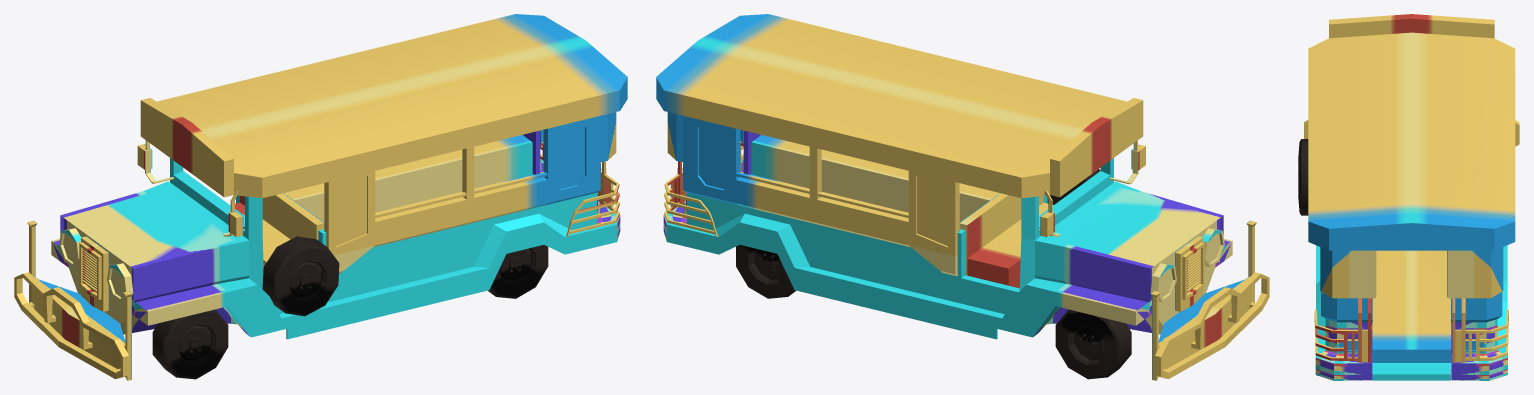
File: jeep.fbx
The picture shows the model from 3 angles, left to right: view 1: azimuth 30°, elevation 25°; view 2: azimuth 150°, elevation 25°; view 3: azimuth 270°, elevation 25°; orthographic projection.
Parts seen in each view (by area): view 1: jeep_ceiling, jeep_body_main, jeep_body_window, jeep_chairs, front_jeep_bumper, tire_extra, tire_front_left, front_jeep_seat, tire_back_left, front_jeep_eye, back_jeep_handle_piece, front_jeep_nose (+2 smaller); view 2: jeep_ceiling, jeep_body_main, jeep_body_window, jeep_chairs, front_jeep_bumper, front_jeep_seat, tire_front_right, tire_back_right, front_jeep_eye, back_jeep_handle_piece, front_jeep_nose, jeep_handle_chair (+1 smaller); view 3: jeep_ceiling, jeep_ground, jeep_body_window, jeep_body_main, back_jeep_handle_piece, tire_extra, back_jeep_eye, front_jeep_bumper.
Part boxes in pixels (left/top/right/bottom): jeep_ceiling: left=140, top=14, right=627, bottom=198; jeep_body_main: left=51, top=130, right=620, bottom=339; jeep_body_window: left=324, top=112, right=616, bottom=273; jeep_chairs: left=284, top=135, right=532, bottom=222; front_jeep_bumper: left=14, top=220, right=133, bottom=380; tire_extra: left=262, top=236, right=339, bottom=316; tire_front_left: left=152, top=309, right=228, bottom=379; front_jeep_seat: left=230, top=193, right=324, bottom=266; tire_back_left: left=488, top=245, right=548, bottom=298; front_jeep_eye: left=59, top=228, right=133, bottom=302; back_jeep_handle_piece: left=540, top=141, right=619, bottom=237; front_jeep_nose: left=79, top=236, right=108, bottom=311; jeep_ceiling: left=656, top=14, right=1143, bottom=198; jeep_body_main: left=663, top=130, right=1232, bottom=339; jeep_body_window: left=667, top=112, right=959, bottom=276; jeep_chairs: left=751, top=135, right=999, bottom=222; front_jeep_bumper: left=1150, top=220, right=1269, bottom=380; front_jeep_seat: left=959, top=193, right=1053, bottom=288; tire_front_right: left=1055, top=309, right=1131, bottom=379; tire_back_right: left=736, top=245, right=795, bottom=298; front_jeep_eye: left=1150, top=228, right=1224, bottom=302; back_jeep_handle_piece: left=664, top=141, right=743, bottom=237; front_jeep_nose: left=1175, top=236, right=1204, bottom=311; jeep_handle_chair: left=736, top=172, right=908, bottom=217; jeep_ceiling: left=1308, top=14, right=1515, bottom=250; jeep_ground: left=1372, top=250, right=1451, bottom=380; jeep_body_window: left=1320, top=247, right=1503, bottom=322; jeep_body_main: left=1315, top=245, right=1507, bottom=380; back_jeep_handle_piece: left=1314, top=298, right=1508, bottom=362; tire_extra: left=1298, top=139, right=1308, bottom=215; back_jeep_eye: left=1339, top=339, right=1484, bottom=352; front_jeep_bumper: left=1304, top=120, right=1519, bottom=146.
Size of the model in its own units: 14.72 by 5.82 by 5.39.
Materials: 1 (1 with a texture image).
